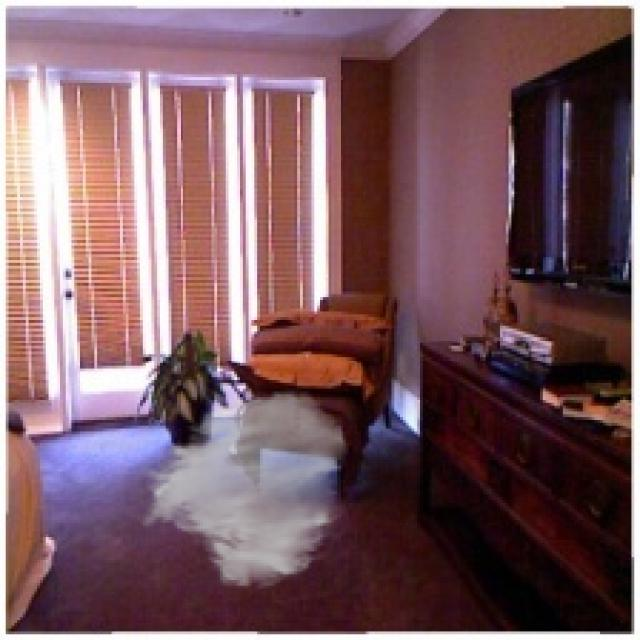smoke: (137, 388, 352, 592)
